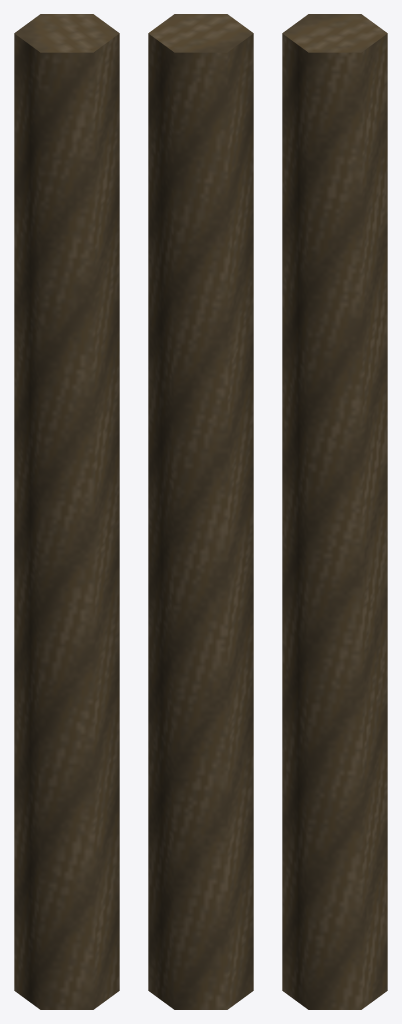
Rendered from SM_SplineMesh.fbx.
3 views of the same model, side by side, from view 1: azimuth 30°, elevation 25°; view 2: azimuth 150°, elevation 25°; view 3: azimuth 330°, elevation 25° (orthographic).
Parts seen in each view (by area): view 1: Rope_low; view 2: Rope_low; view 3: Rope_low.
Boxes of the visible parts, <box> form: Rope_low: <box>14,14,119,1009</box>; Rope_low: <box>148,14,253,1009</box>; Rope_low: <box>282,14,387,1009</box>.
Size of the model in its own units: 8.66 by 100 by 10.
1 material, 1 textured.
